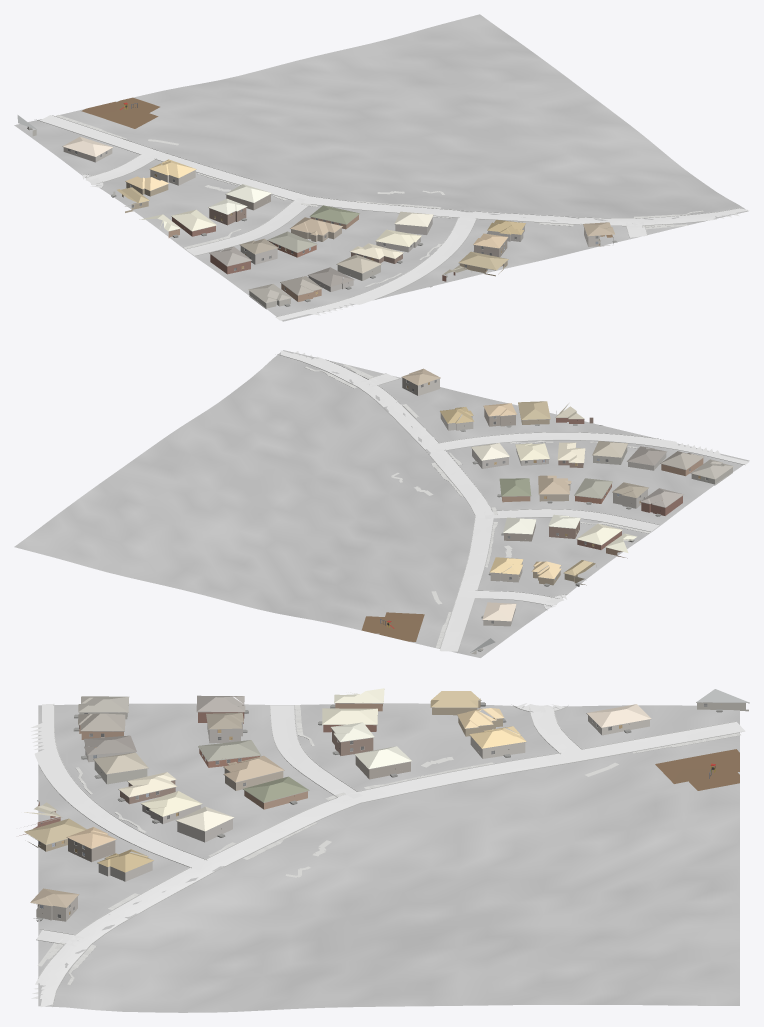
3 renders of one model, top to bottom at view 1: azimuth 30°, elevation 25°; view 2: azimuth 150°, elevation 25°; view 3: azimuth 270°, elevation 25°, orthographic. The views are drawn at different scales.
Visible parts, largest first — view 1: ground, roof, concrete, wall, detail, curb, walk, wall_stucco, wall_stone; view 2: ground, roof, concrete, wall, detail, curb, walk, wall_stucco, wall_stone; view 3: ground, roof, concrete, wall, detail, curb, walk, wall_stucco, wall_stone.
Part boxes in pixels (x1,y1,x2,y2): ground: [14, 14, 748, 321]; roof: [17, 115, 614, 302]; concrete: [40, 115, 749, 320]; wall: [122, 182, 507, 301]; detail: [27, 97, 617, 306]; curb: [36, 115, 742, 317]; walk: [56, 115, 703, 287]; wall_stucco: [32, 129, 609, 309]; wall_stone: [240, 218, 524, 291]; ground: [14, 350, 749, 657]; roof: [402, 368, 733, 652]; concrete: [280, 350, 749, 651]; wall: [484, 408, 703, 585]; detail: [361, 373, 722, 654]; curb: [277, 354, 744, 651]; walk: [305, 364, 650, 648]; wall_stucco: [402, 378, 732, 626]; wall_stone: [440, 413, 666, 508]; ground: [38, 703, 739, 1012]; roof: [24, 688, 748, 907]; concrete: [31, 703, 745, 1007]; wall: [19, 698, 502, 862]; detail: [24, 700, 749, 921]; curb: [36, 704, 743, 1007]; walk: [37, 705, 740, 984]; wall_stucco: [33, 703, 748, 921]; wall_stone: [85, 722, 242, 881].
Bounding box in the file's own units: 257 × 11.93 × 262.
